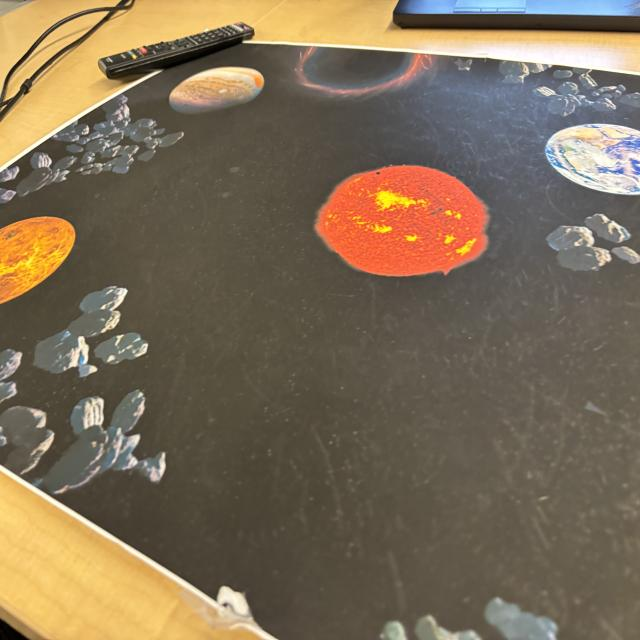Asteroids: (5, 293, 142, 490), (0, 95, 171, 199), (495, 54, 631, 120), (541, 211, 640, 274)
Black Hole: (296, 39, 432, 96)
Earth: (544, 126, 640, 196)
Jupiter: (166, 65, 266, 115)
Sun: (316, 168, 498, 276)
Venus: (0, 212, 76, 305)
